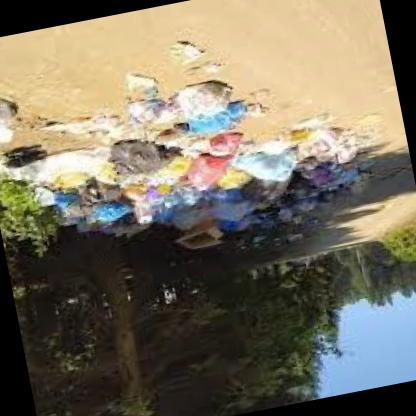Garbage: (40, 48, 359, 264), (80, 62, 232, 159), (269, 102, 388, 188), (219, 174, 322, 250), (194, 166, 296, 224), (87, 180, 164, 231), (102, 130, 168, 186), (234, 114, 284, 181), (0, 82, 19, 144)
